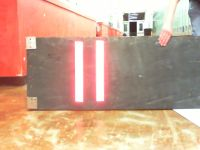switch: (74, 41, 84, 103), (95, 40, 105, 102)
